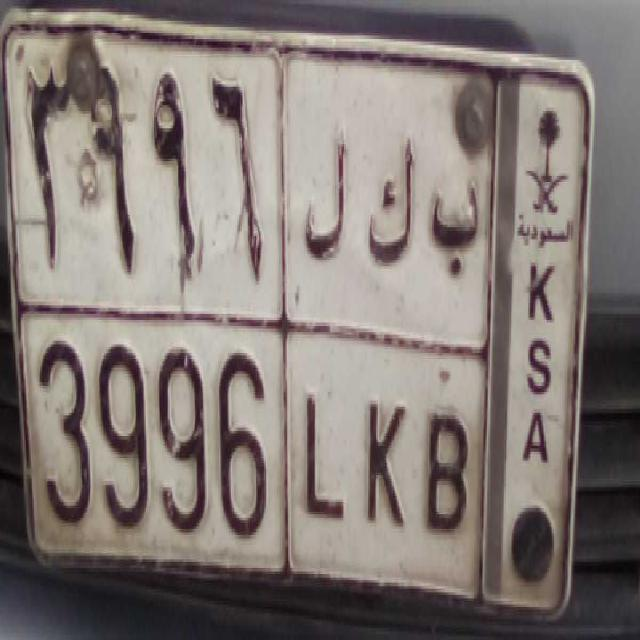license_plate: (29, 293, 479, 588)
